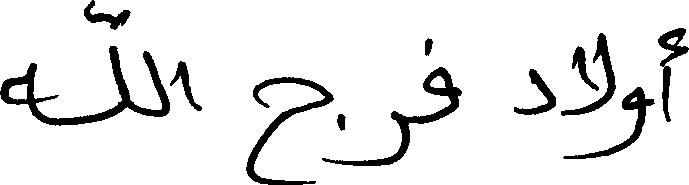X: (253, 72, 333, 184), (564, 28, 614, 163), (354, 106, 408, 170), (423, 33, 457, 128), (662, 23, 688, 126), (109, 5, 128, 122), (0, 58, 35, 121), (515, 64, 555, 119), (144, 46, 169, 121), (622, 82, 644, 154), (177, 56, 199, 115)
